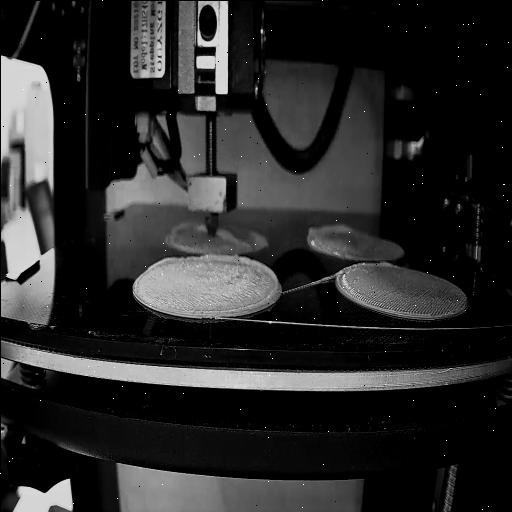over_extrusion: (197, 252, 279, 318), (302, 220, 354, 243), (215, 226, 247, 246), (146, 252, 179, 271), (188, 220, 206, 232), (377, 259, 396, 269)
